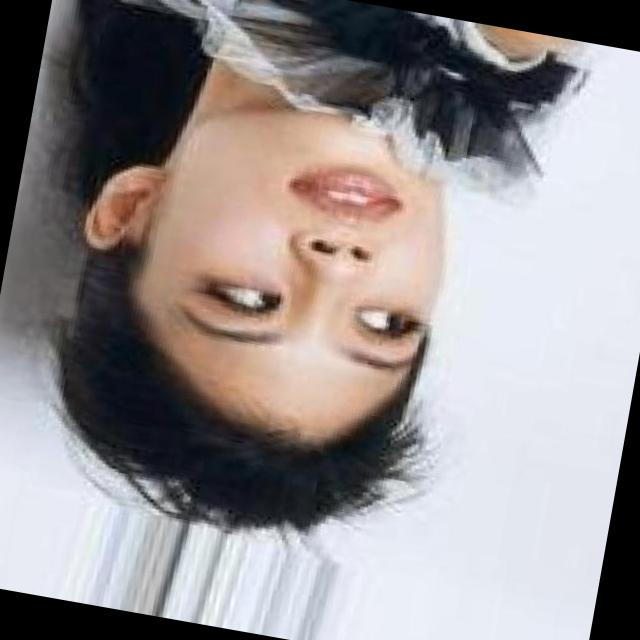bareface: (8, 67, 477, 532)
